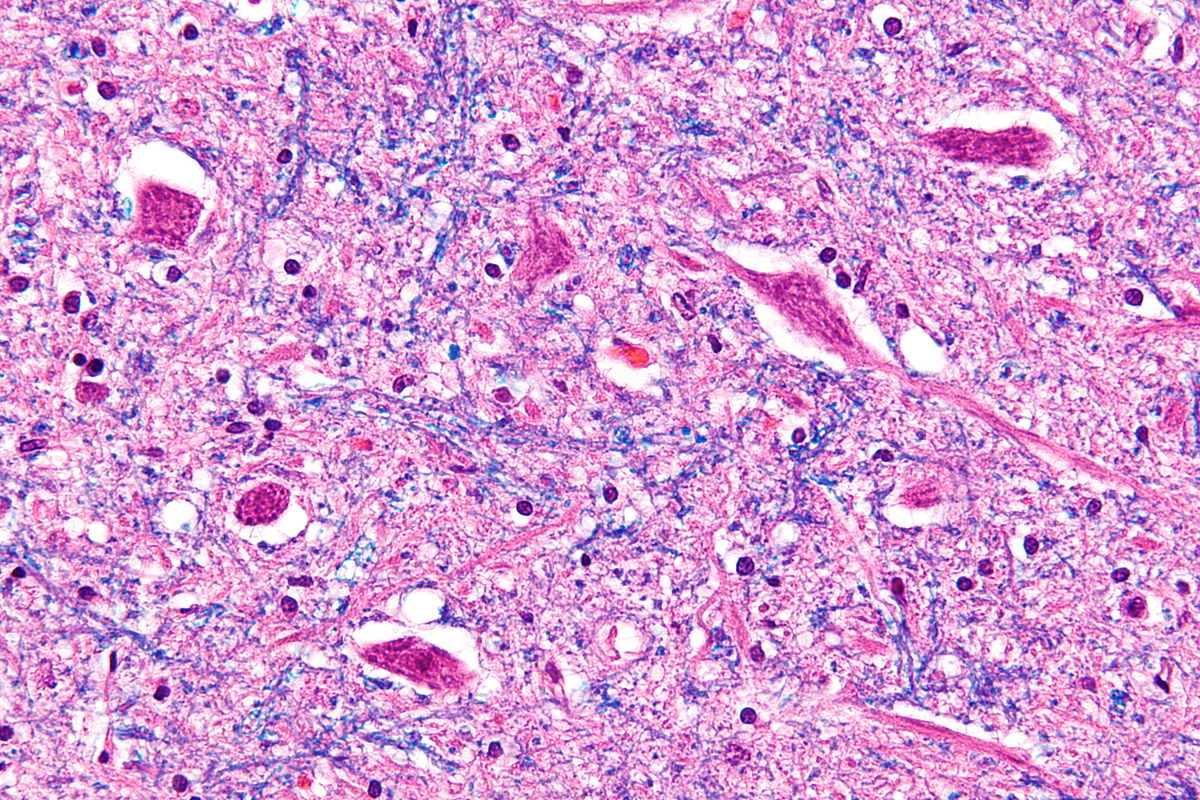neuron: (703, 245, 901, 379)
